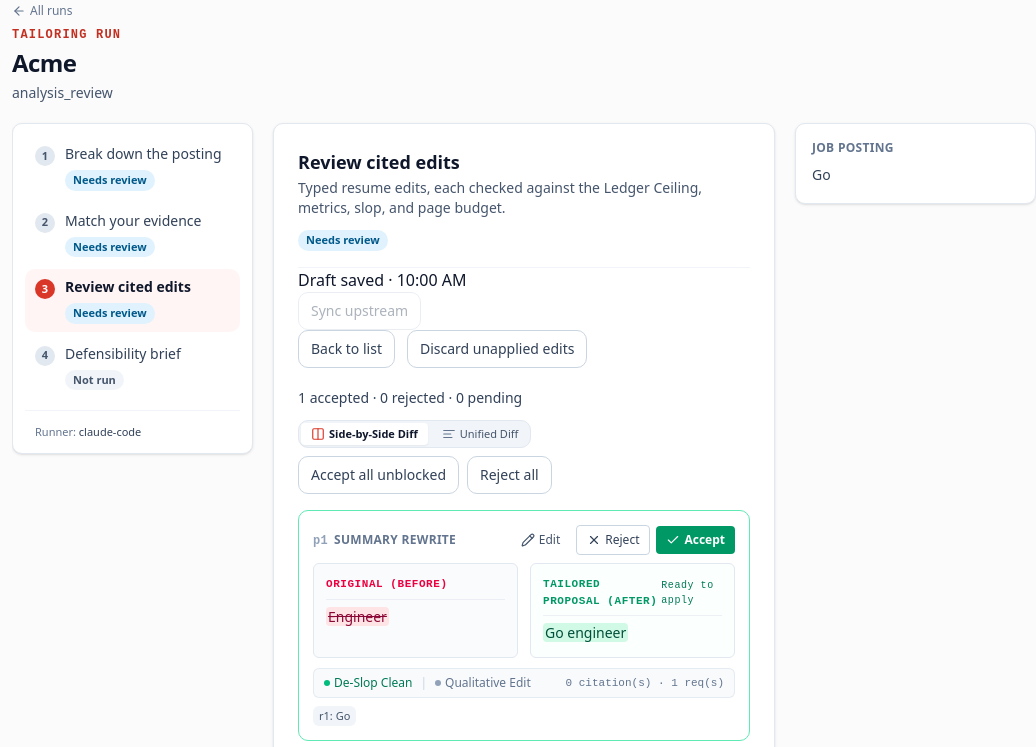
Test case: awaits Apply before approval and stops on Apply failure
This screenshot has width=1036, height=747.
Click the button "Edit" at (541, 540), box [511,526,570,554]
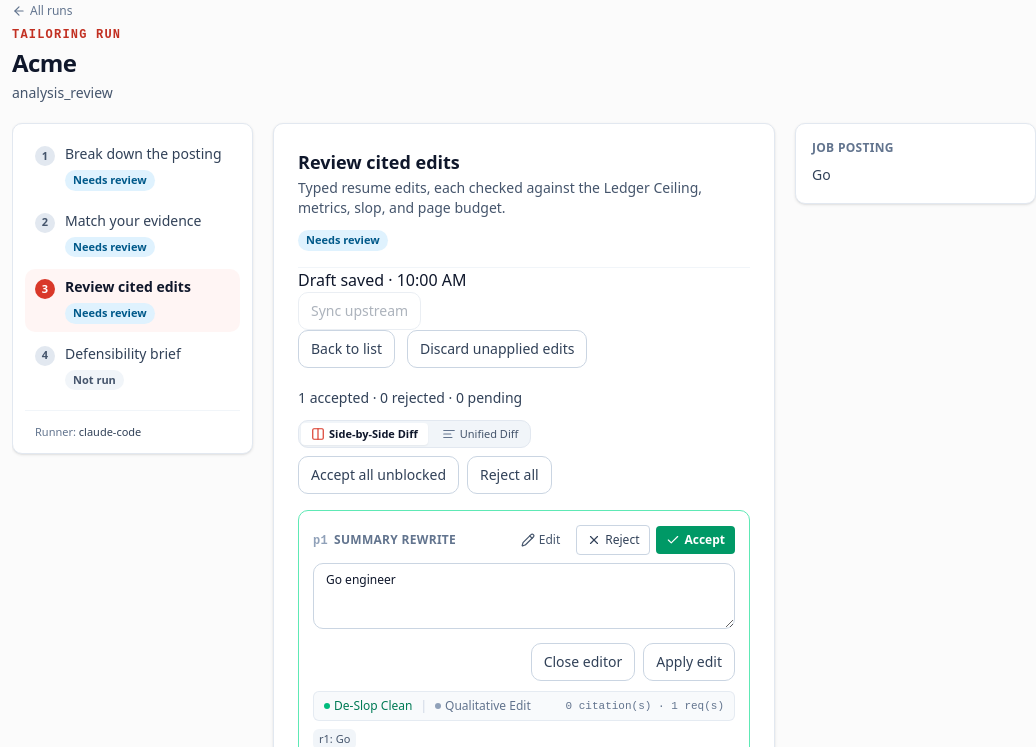
Replace the text in the text box named "Edit proposal p1" with "unfinished" at (524, 596), box [313,563,735,629]
(page scrolled)
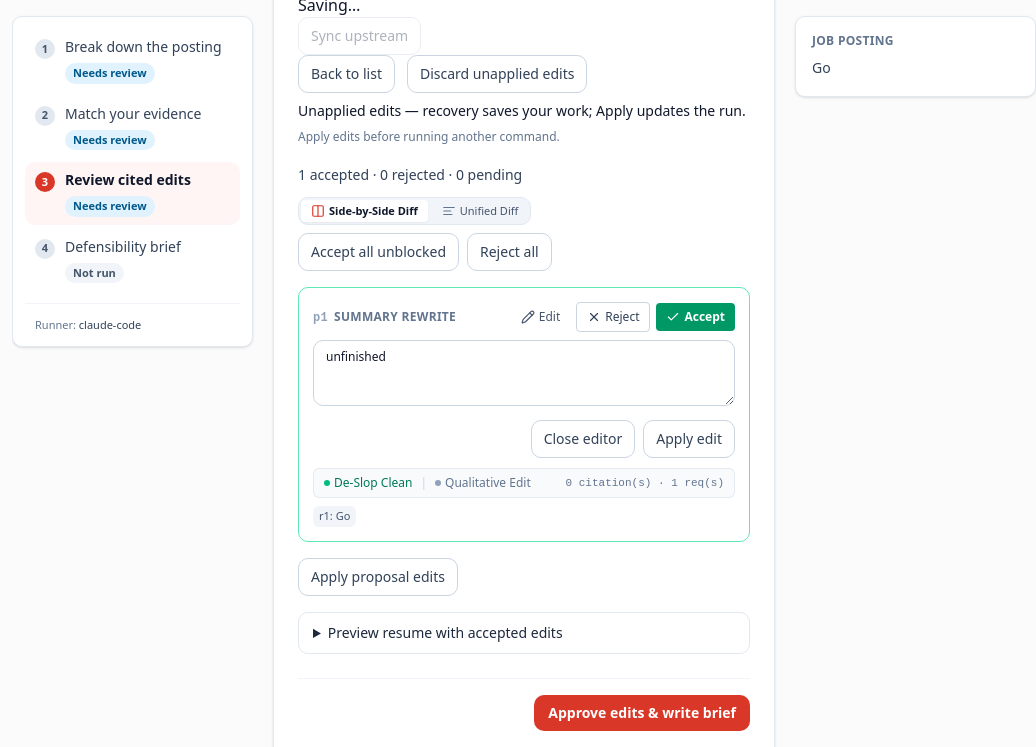
Click the button "Approve edits & write brief" at (642, 713), box [534,695,750,731]
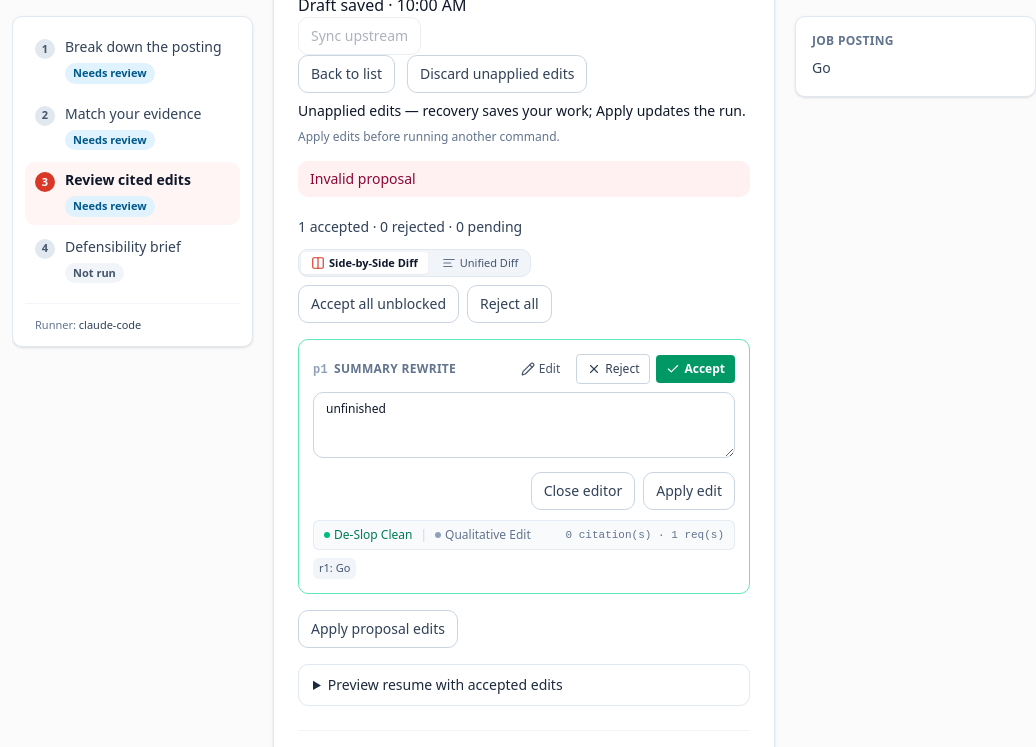
Now the message "Invalid proposal" is shown, box [298,160,750,196]
